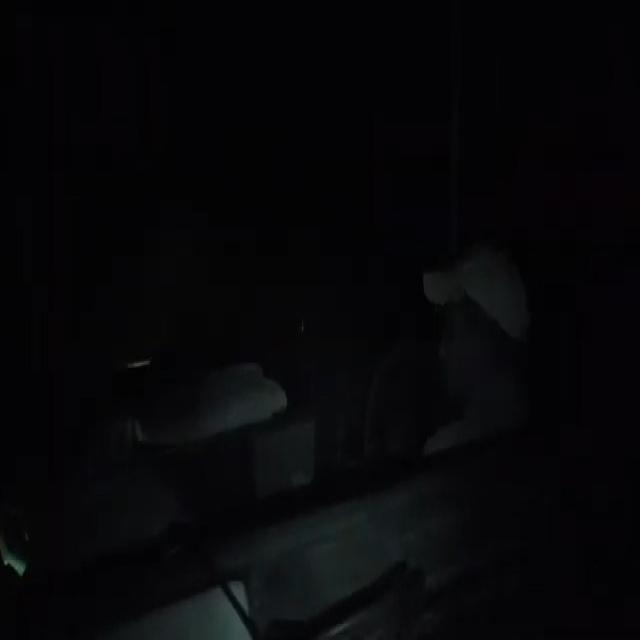human: (391, 209, 640, 633)
